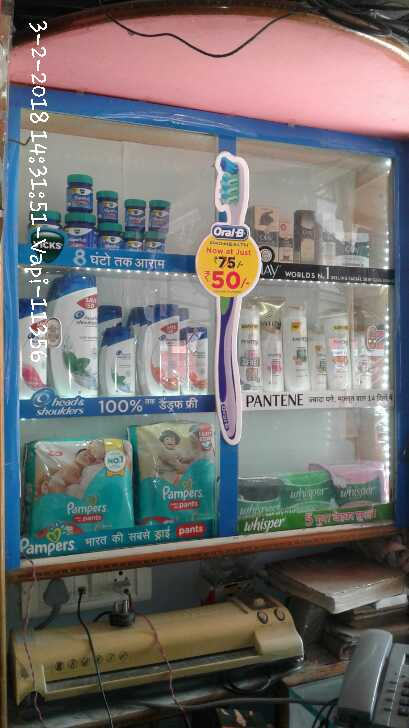beauty: (48, 275, 97, 400), (140, 308, 184, 395), (94, 320, 143, 395), (182, 326, 215, 402), (324, 310, 354, 393), (281, 302, 307, 395), (331, 231, 372, 271), (291, 207, 319, 263), (251, 206, 278, 261)
pharmacy: (21, 441, 124, 532), (131, 422, 217, 525), (332, 468, 396, 516), (61, 226, 162, 255), (282, 469, 331, 518), (231, 480, 282, 520), (58, 177, 94, 218), (88, 194, 122, 225), (148, 196, 177, 231), (118, 196, 143, 227)
